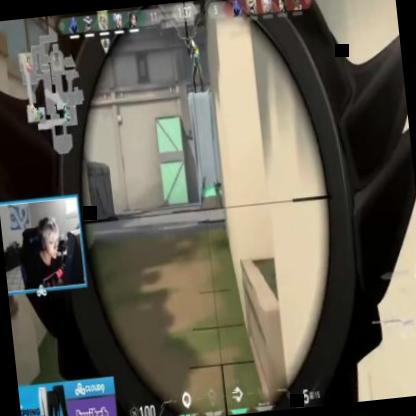enemy: (188, 36, 204, 94)
enemy_head: (191, 39, 194, 48)
